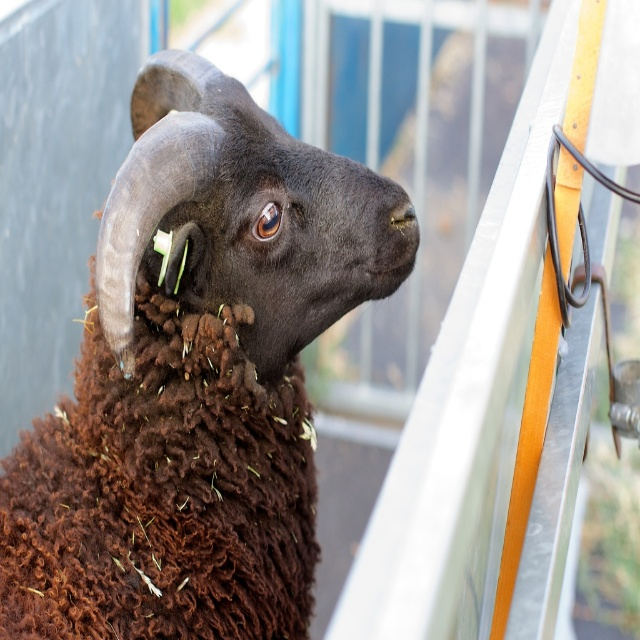Sheep: (0, 45, 420, 639)
